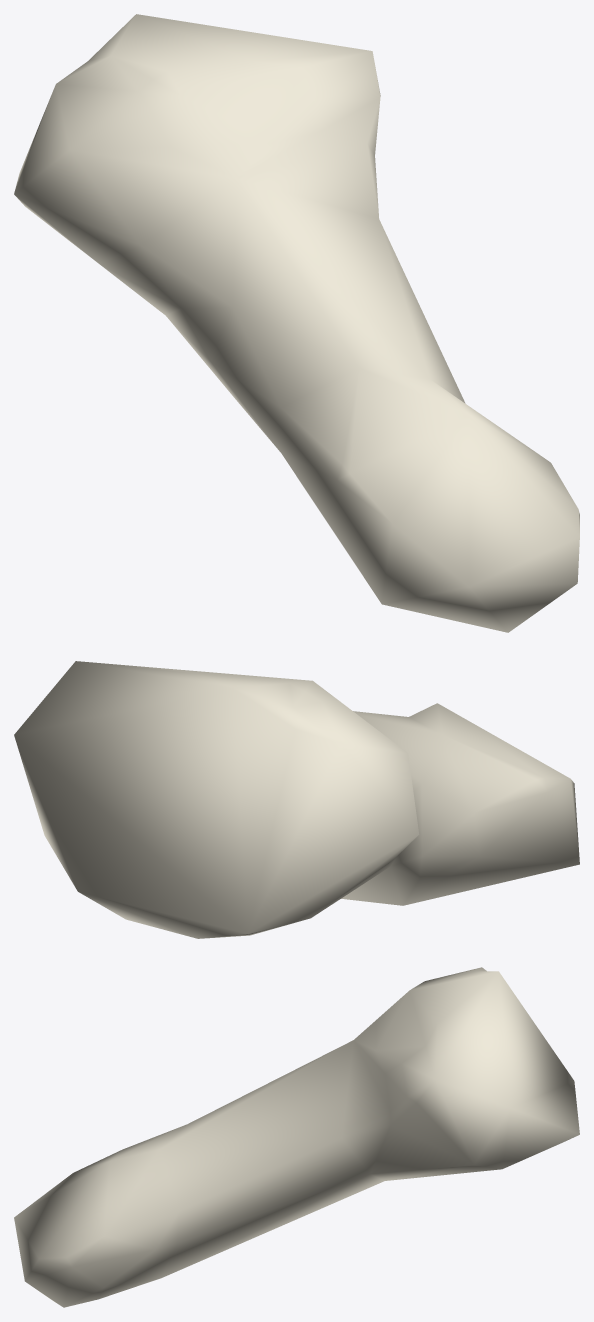
3 views of the same model, one above another, from view 1: azimuth 30°, elevation 25°; view 2: azimuth 150°, elevation 25°; view 3: azimuth 270°, elevation 25° (orthographic). The views are drawn at different scales.
Visible parts, largest first — view 1: ZA_fd4f42e270065f24; view 2: ZA_fd4f42e270065f24; view 3: ZA_fd4f42e270065f24.
Part boxes in pixels (x1,y1,x2,y2): ZA_fd4f42e270065f24: (14,14,579,632); ZA_fd4f42e270065f24: (14,661,579,938); ZA_fd4f42e270065f24: (14,967,579,1307).
Size of the model in its own units: 0.00861 by 0.00961 by 0.0162.
